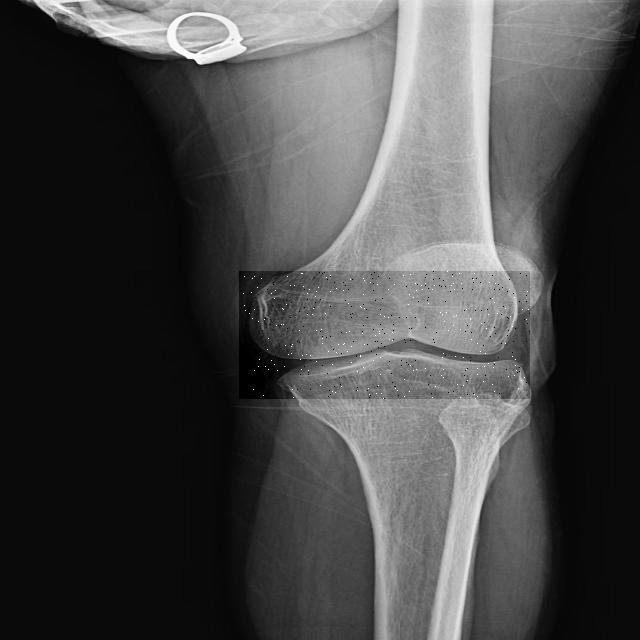osteo: (239, 271, 530, 399)
